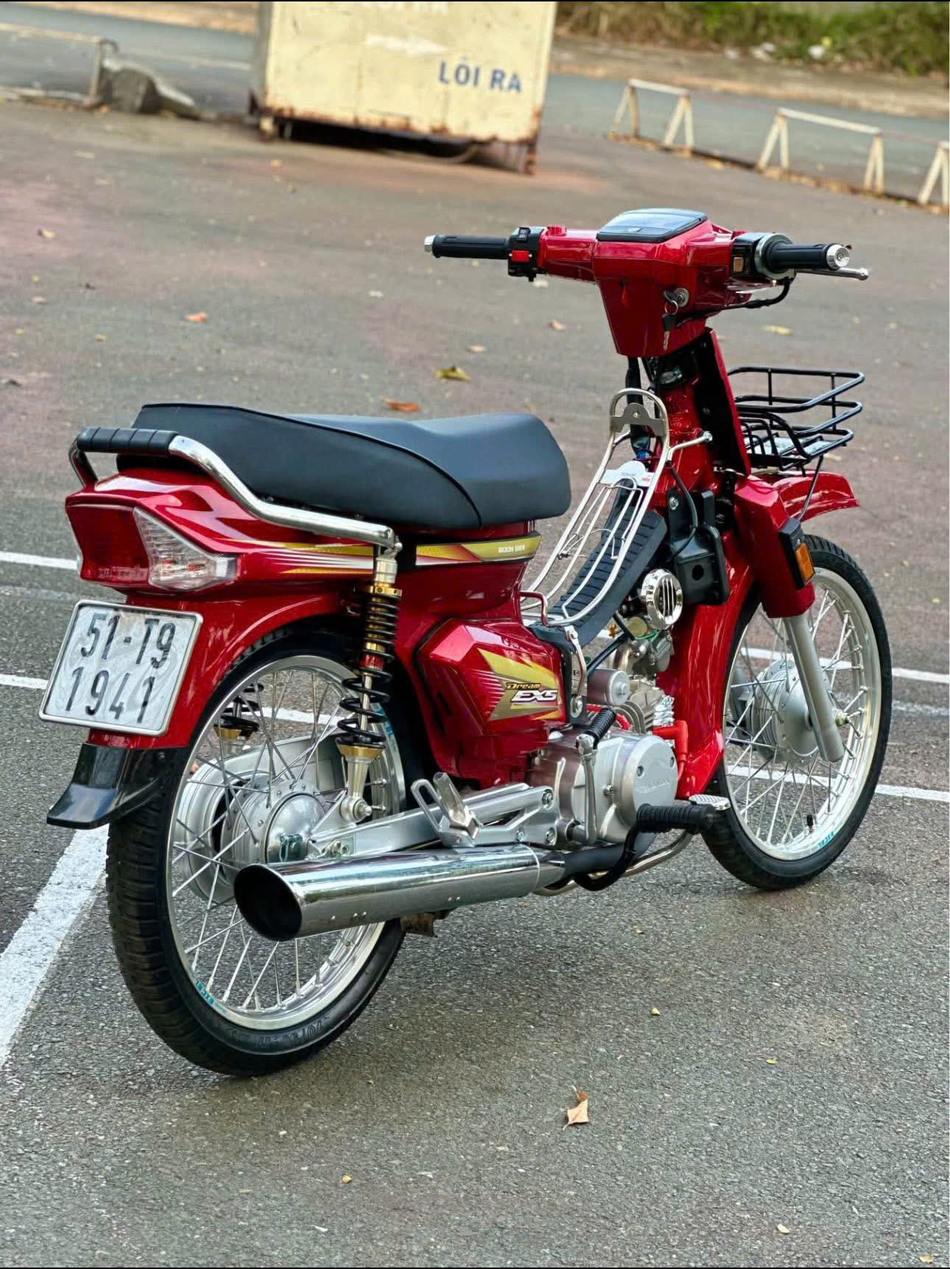Bien-so: (44, 600, 207, 738)
